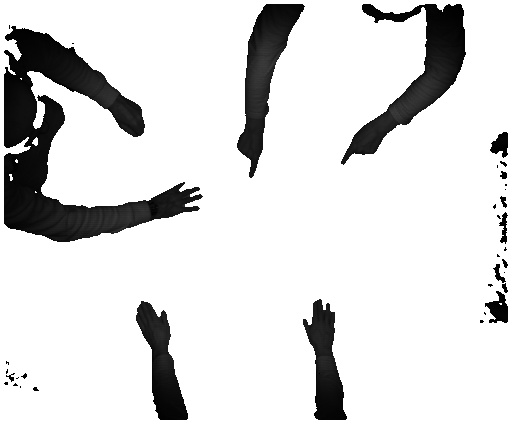fist: (111, 98, 151, 143)
hand: (155, 176, 207, 223), (336, 121, 387, 167), (136, 296, 175, 352), (296, 296, 335, 351), (237, 128, 263, 183)
